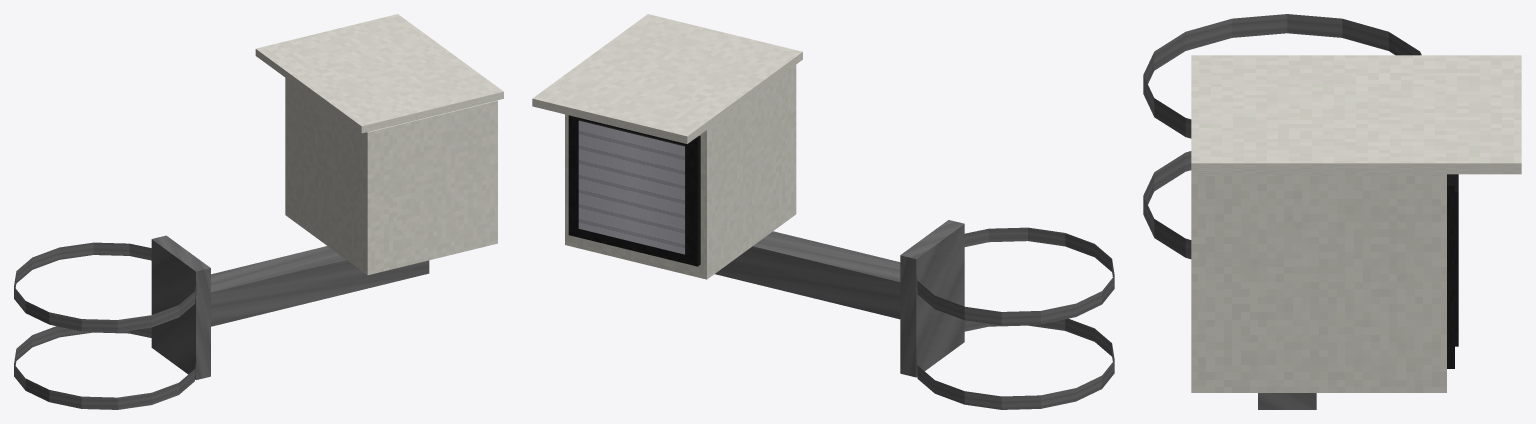
The model's file is flash_unit_side_left_thin.obj.
3 views of the same model, side by side, from view 1: azimuth 30°, elevation 25°; view 2: azimuth 150°, elevation 25°; view 3: azimuth 270°, elevation 25° (orthographic). The views are drawn at different scales.
Visible parts, largest first — view 1: flash_unit_side_left_thin; view 2: flash_unit_side_left_thin; view 3: flash_unit_side_left_thin.
Boxes of the visible parts, <box> form: flash_unit_side_left_thin: <box>14,14,503,409</box>; flash_unit_side_left_thin: <box>532,14,1114,409</box>; flash_unit_side_left_thin: <box>1143,14,1521,409</box>.
Size of the model in its own units: 1.51 by 0.715 by 0.71.
